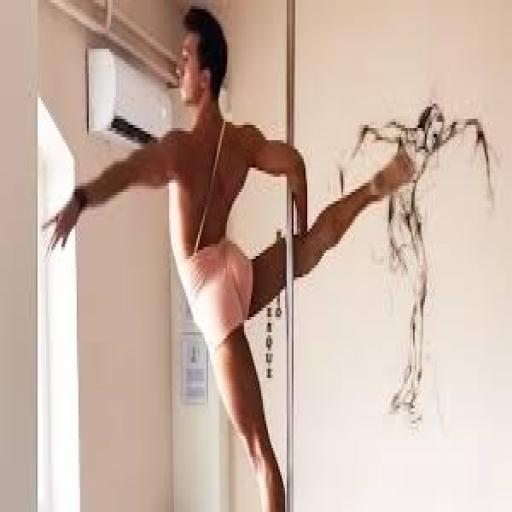dancing: (43, 3, 430, 509)
